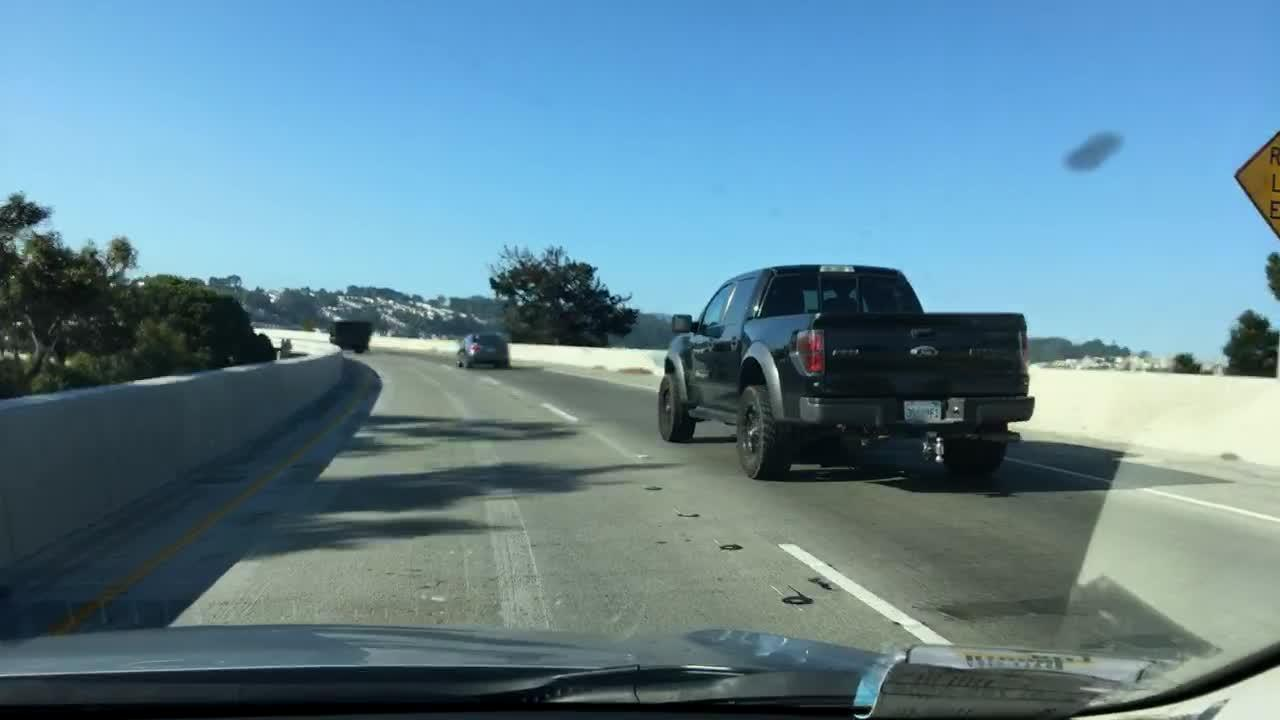ford: (905, 339, 947, 370)
